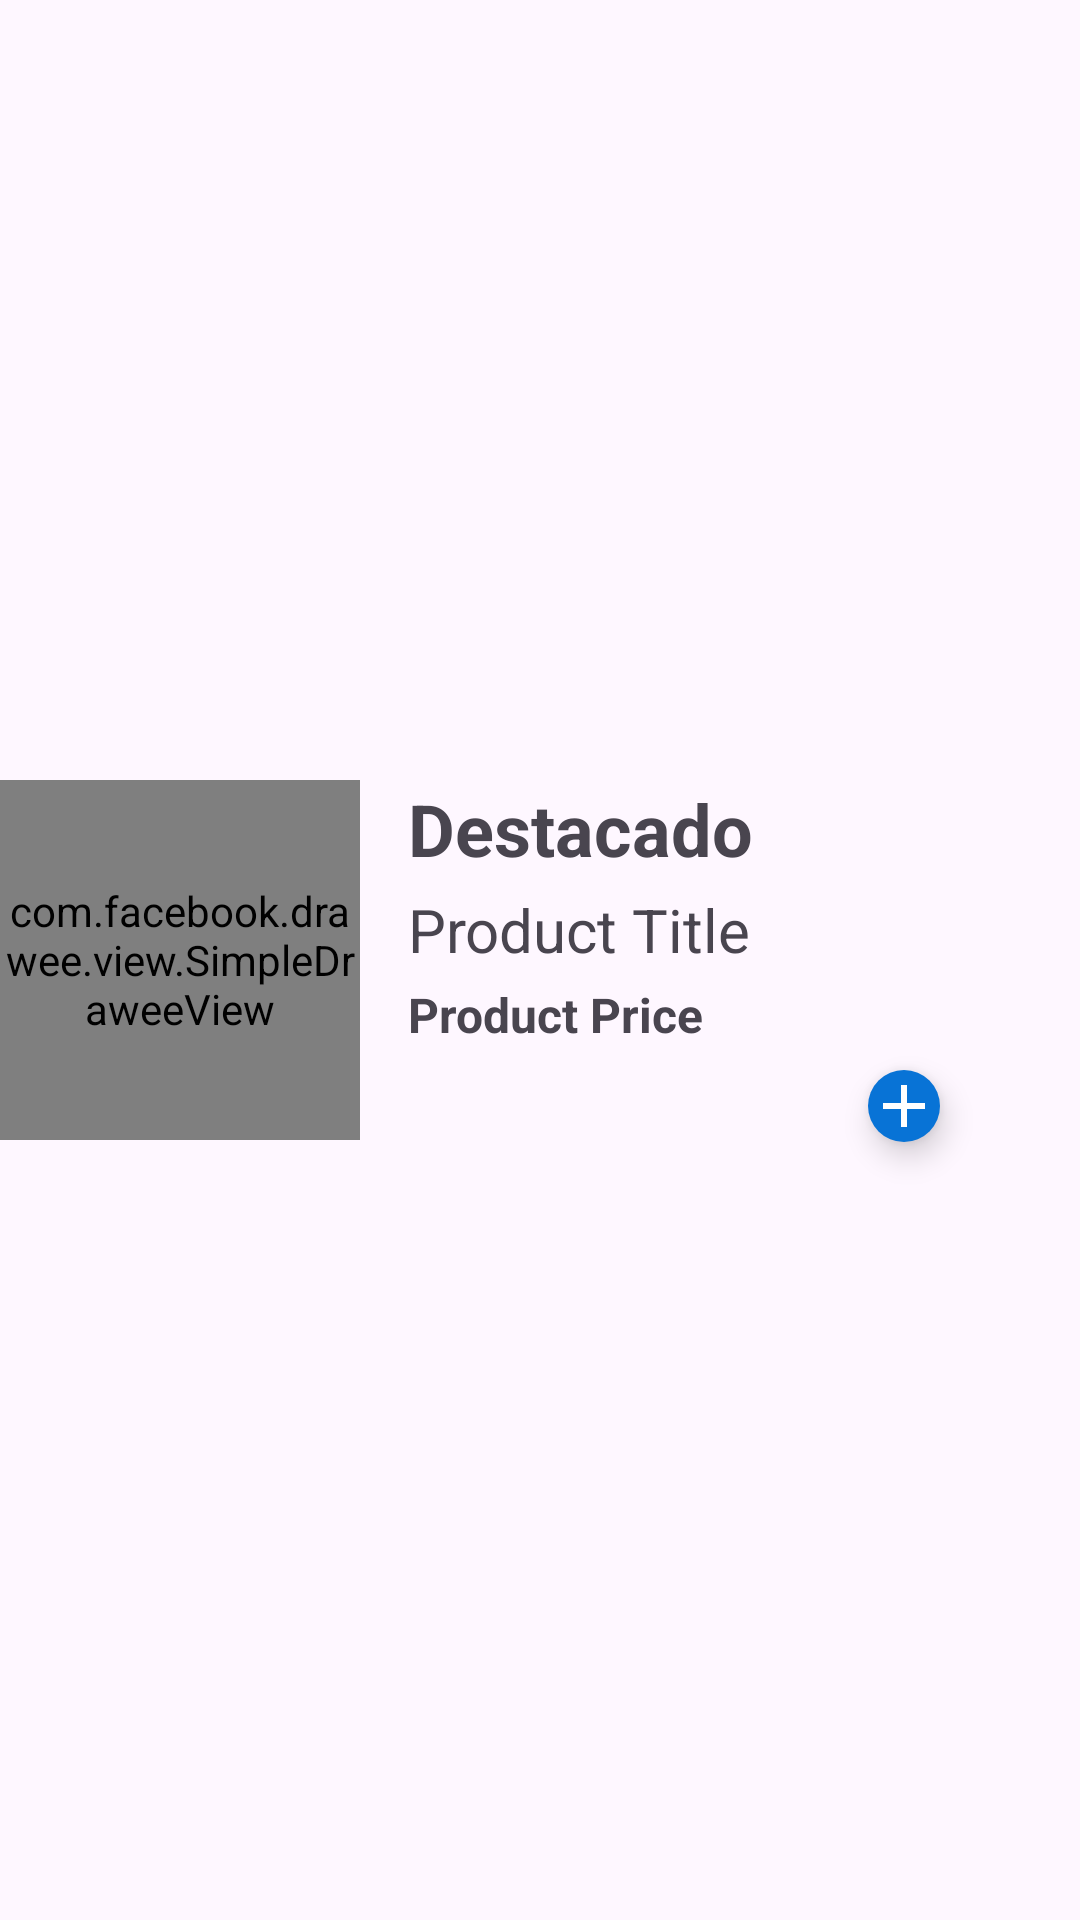

Locate icon controls on the screen. Image size 1080*1920, boxes as bbox=(x1, y1, x2, y2).
add: bbox=(868, 1070, 942, 1150)
